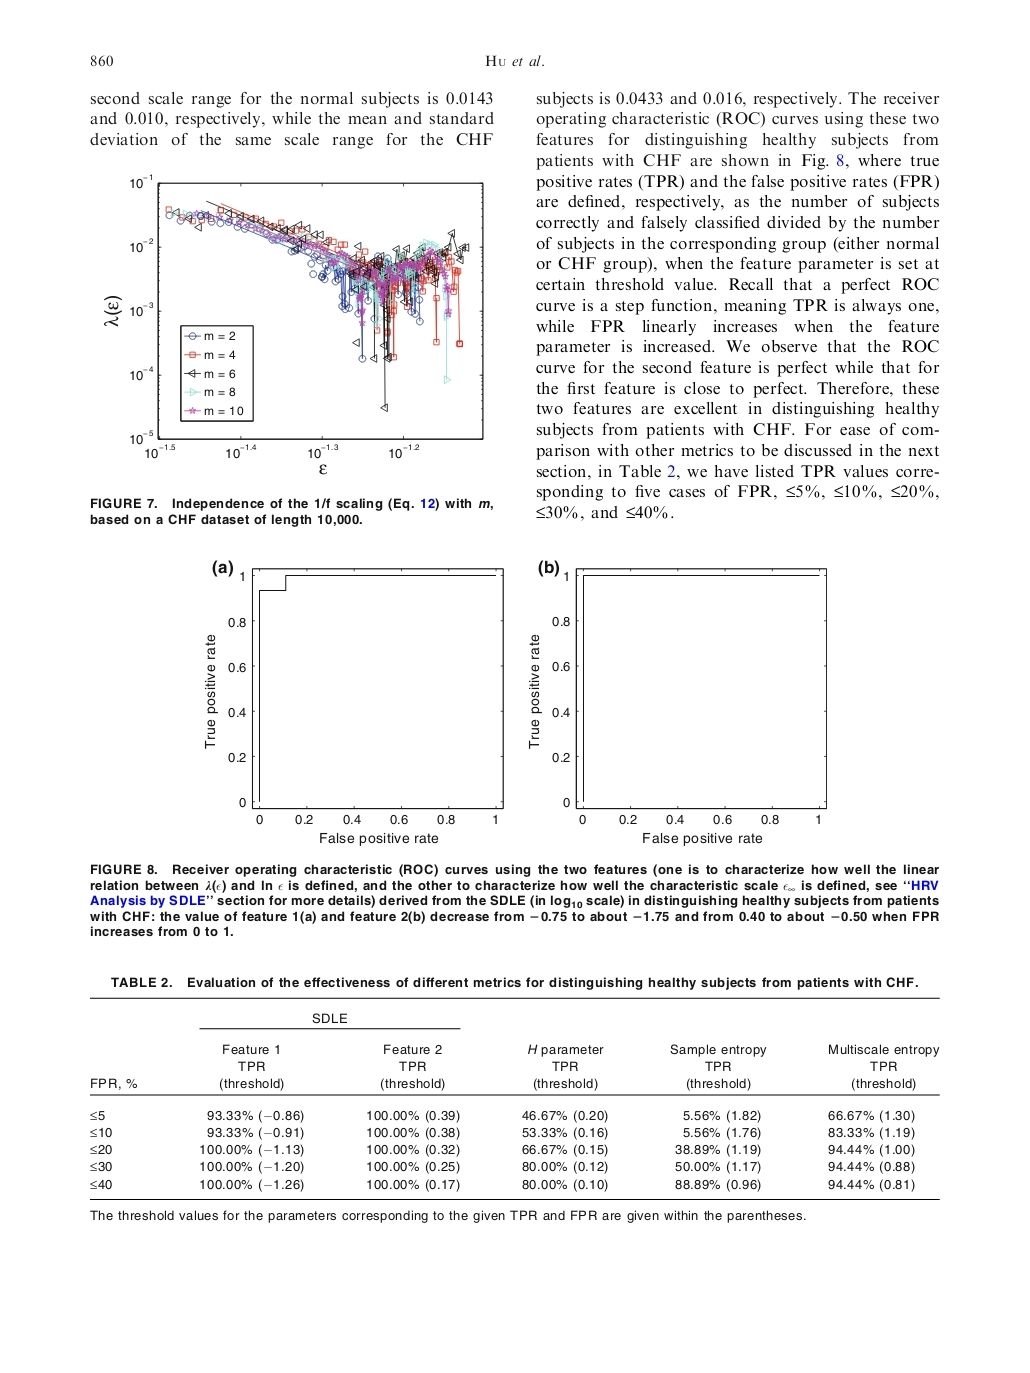Table: (90, 996, 939, 1199)
figure: (104, 173, 483, 459), (204, 560, 503, 845), (529, 560, 826, 845)
